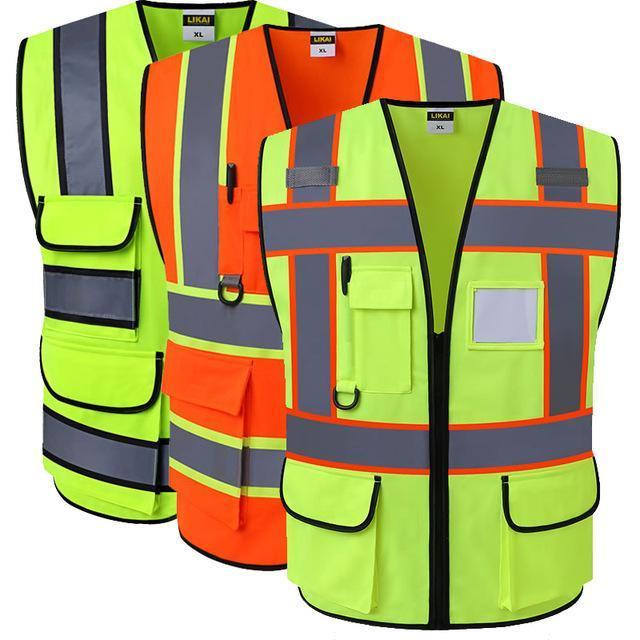vest: (142, 26, 505, 570), (255, 96, 619, 628), (15, 0, 330, 527)
